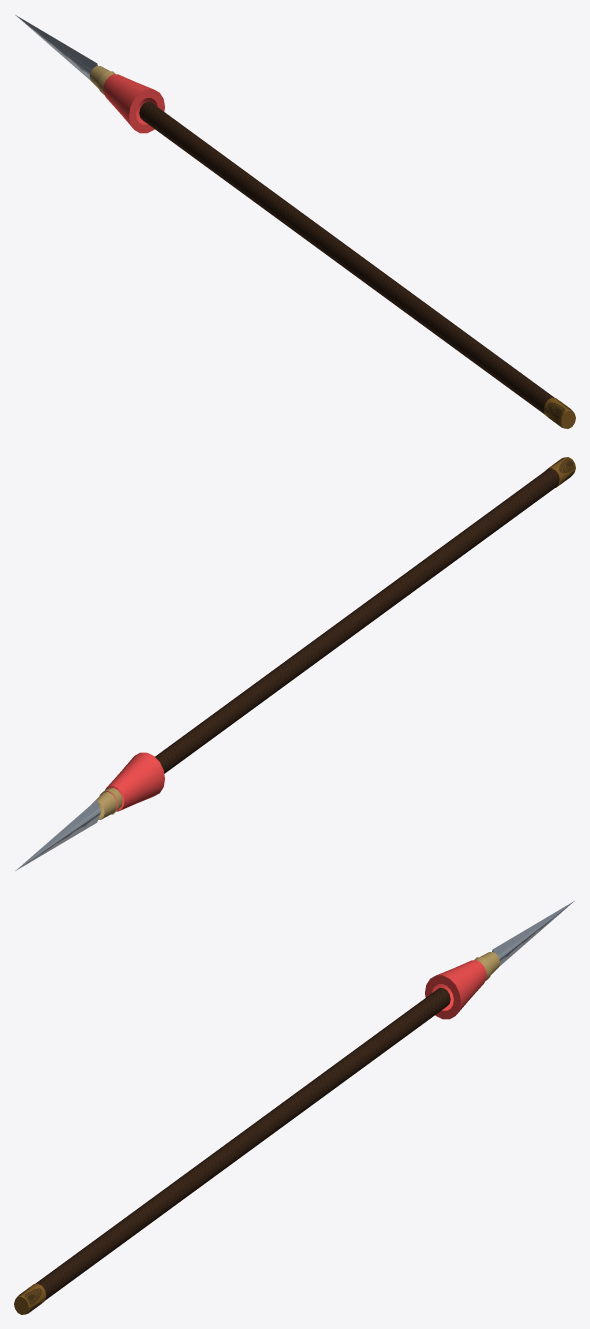
The model's file is yari.glb.
3 renders of one model, top to bottom at view 1: azimuth 30°, elevation 25°; view 2: azimuth 150°, elevation 25°; view 3: azimuth 330°, elevation 25°, orthographic.
Visible parts, largest first — view 1: main; view 2: main; view 3: main.
Part boxes in pixels (x1,y1,x2,y2): main: [15, 15, 575, 428]; main: [15, 457, 575, 870]; main: [14, 901, 574, 1314].
Bounding box in the file's own units: 0.0752 × 0.0874 × 2.
Materials: 5 (3 with a texture image).
